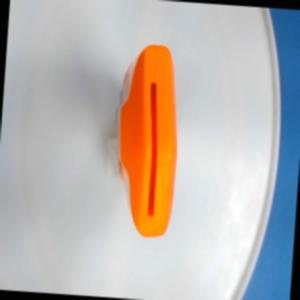estilete: (108, 41, 184, 240)
